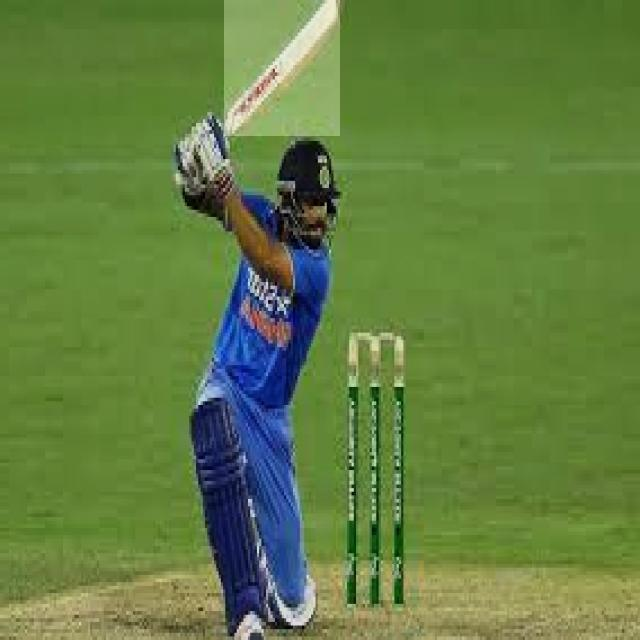bat: (221, 0, 344, 139)
toe: (332, 0, 343, 14)
